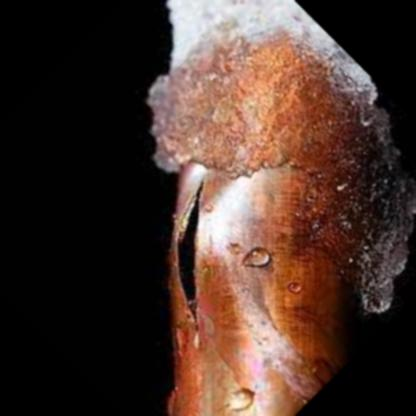burst: (151, 173, 238, 313)
